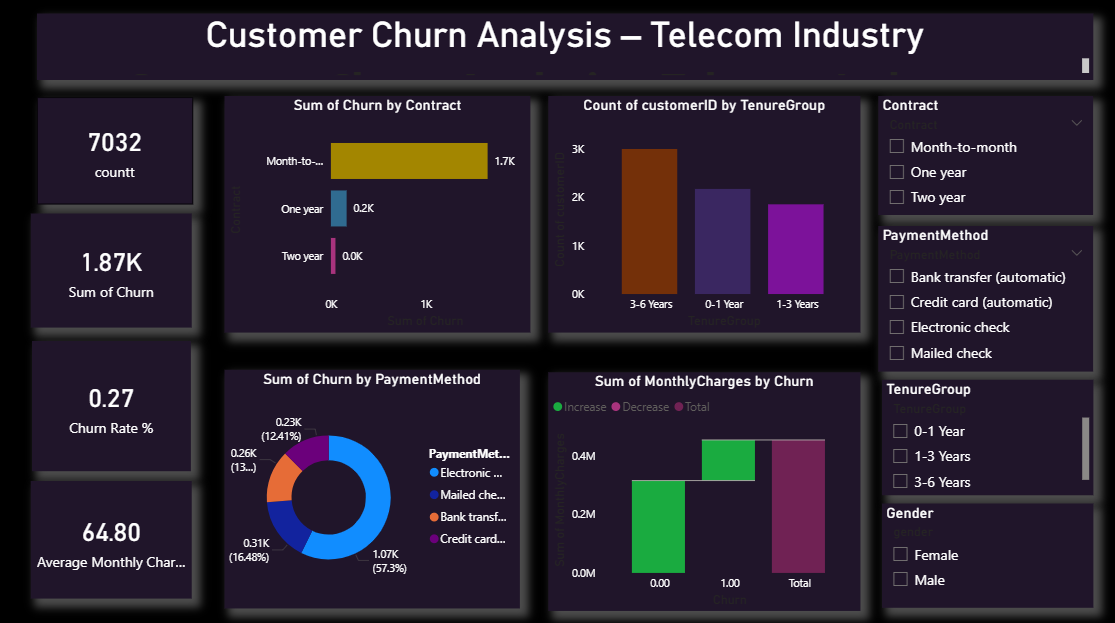

The dashboard page shown, as its layout file describes it:
{"tool":"powerbi","page":{"name":"Page 1","canvas":[1280,720],"ordinal":0},"visuals":[{"type":"card","title":"Customer Count","fields":{"Values":["Sum(customers.count)"]},"box":[45.3,115.3,178.4,122.1],"z":0},{"type":"card","title":"Sum Of Churn","fields":{"Values":["Sum(customers.Churn)"]},"box":[38.6,248.6,184.3,130],"z":1000},{"type":"card","title":"Churn Rate %","fields":{"Values":["customers.Churn Rate %"]},"box":[40,394.3,181.4,148.6],"z":2000},{"type":"actionButton","box":[0,0,100,40],"z":3000},{"type":"card","title":"Sum Of TotalCharges","fields":{"Values":["Sum(customers.TotalCharges)"]},"box":[38.6,554.3,184.3,134.3],"z":4000},{"type":"textbox","title":"Customer Churn Analysis – Telecom Industry","box":[45.7,20,1207.1,75.7],"z":5000},{"type":"barChart","fields":{"Category":["customers.Contract"],"Y":["Sum(customers.Churn)"]},"box":[259.3,113.9,349.9,270.3],"z":6000},{"type":"columnChart","fields":{"Category":["customers.TenureGroup"],"Y":["CountNonNull(customers.customerID)"]},"box":[629.8,113.9,356.8,270.3],"z":7000},{"type":"donutChart","fields":{"Category":["customers.PaymentMethod"],"Y":["Sum(customers.Churn)"]},"box":[259.3,426.8,337.6,273.1],"z":8000},{"type":"waterfallChart","fields":{"Category":["customers.Churn"],"Y":["Sum(customers.MonthlyCharges)"]},"box":[629.8,429.5,356.8,273.1],"z":9000},{"type":"slicer","title":"Contract","fields":{"Values":["customers.Contract"]},"box":[1007.2,113.9,245.6,135.8],"z":10000},{"type":"slicer","title":"PaymentMethod","fields":{"Values":["customers.PaymentMethod"]},"box":[1007.2,263.5,245.6,166],"z":11000},{"type":"slicer","title":"TenureGroup","fields":{"Values":["customers.TenureGroup"]},"box":[1011.3,439.1,241.5,131.7],"z":12000},{"type":"slicer","title":"Gender","fields":{"Values":["customers.gender"]},"box":[1011.3,580.4,241.5,119.4],"z":12001}]}

Visuals, with their boxes in screenshot pixels (x1, y1, x2, y2), scaled from the page's 1280x720 canvas onto the 1115x623 screenshot:
"Customer Count" card: {"x1": 39, "y1": 100, "x2": 195, "y2": 205}
"Sum Of Churn" card: {"x1": 34, "y1": 215, "x2": 194, "y2": 328}
"Churn Rate %" card: {"x1": 35, "y1": 341, "x2": 193, "y2": 470}
actionButton: {"x1": 0, "y1": 0, "x2": 87, "y2": 35}
"Sum Of TotalCharges" card: {"x1": 34, "y1": 480, "x2": 194, "y2": 596}
"Customer Churn Analysis – Telecom Industry" textbox: {"x1": 40, "y1": 17, "x2": 1091, "y2": 83}
barChart - customers.Contract x Sum(customers.Churn): {"x1": 226, "y1": 99, "x2": 531, "y2": 332}
columnChart - customers.TenureGroup x CountNonNull(customers.customerID): {"x1": 549, "y1": 99, "x2": 859, "y2": 332}
donutChart - customers.PaymentMethod x Sum(customers.Churn): {"x1": 226, "y1": 369, "x2": 520, "y2": 606}
waterfallChart - customers.Churn x Sum(customers.MonthlyCharges): {"x1": 549, "y1": 372, "x2": 859, "y2": 608}
"Contract" slicer: {"x1": 877, "y1": 99, "x2": 1091, "y2": 216}
"PaymentMethod" slicer: {"x1": 877, "y1": 228, "x2": 1091, "y2": 372}
"TenureGroup" slicer: {"x1": 881, "y1": 380, "x2": 1091, "y2": 494}
"Gender" slicer: {"x1": 881, "y1": 502, "x2": 1091, "y2": 606}
